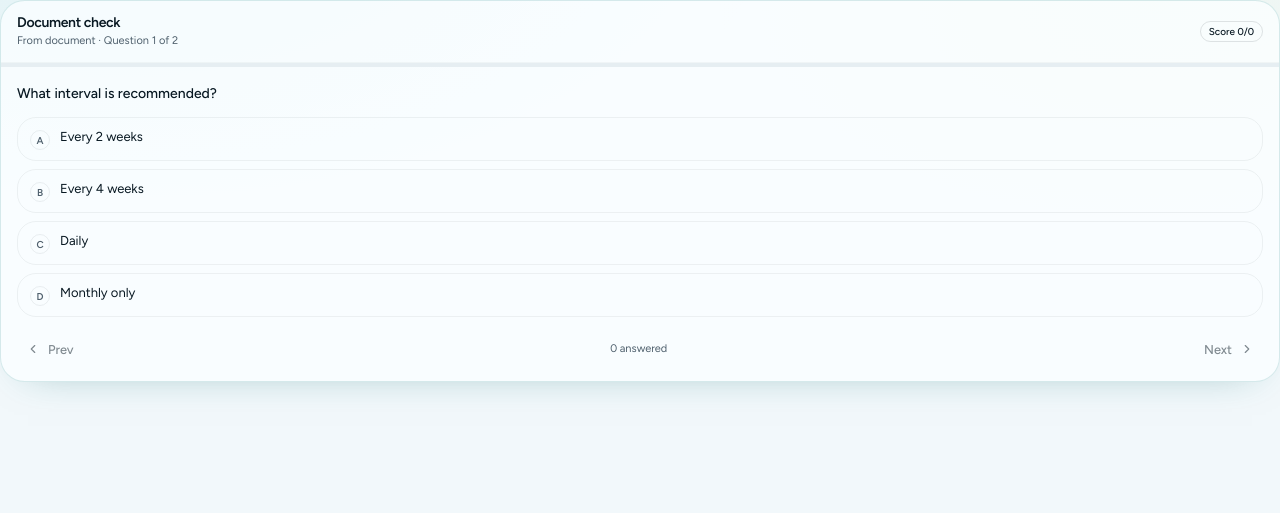
Test: QuizCard › reveals correctness and explanation on option click
Click the option with aria-label "Option a: Every 2 weeks" at (101, 137), box [17,117,1263,161]
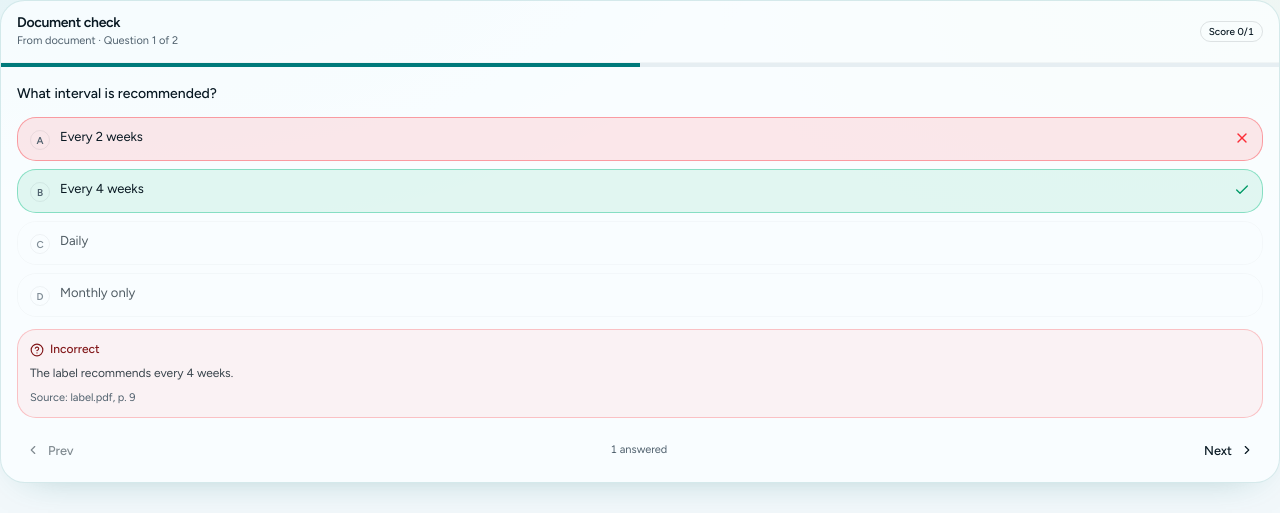
expect the text "Incorrect" is shown: met, box [30,342,100,357]
expect the text "The label recommends every 4 weeks." is shown: met, box [30,366,233,380]
expect the text "Source: label.pdf, p. 9" is shown: met, box [30,391,136,404]
